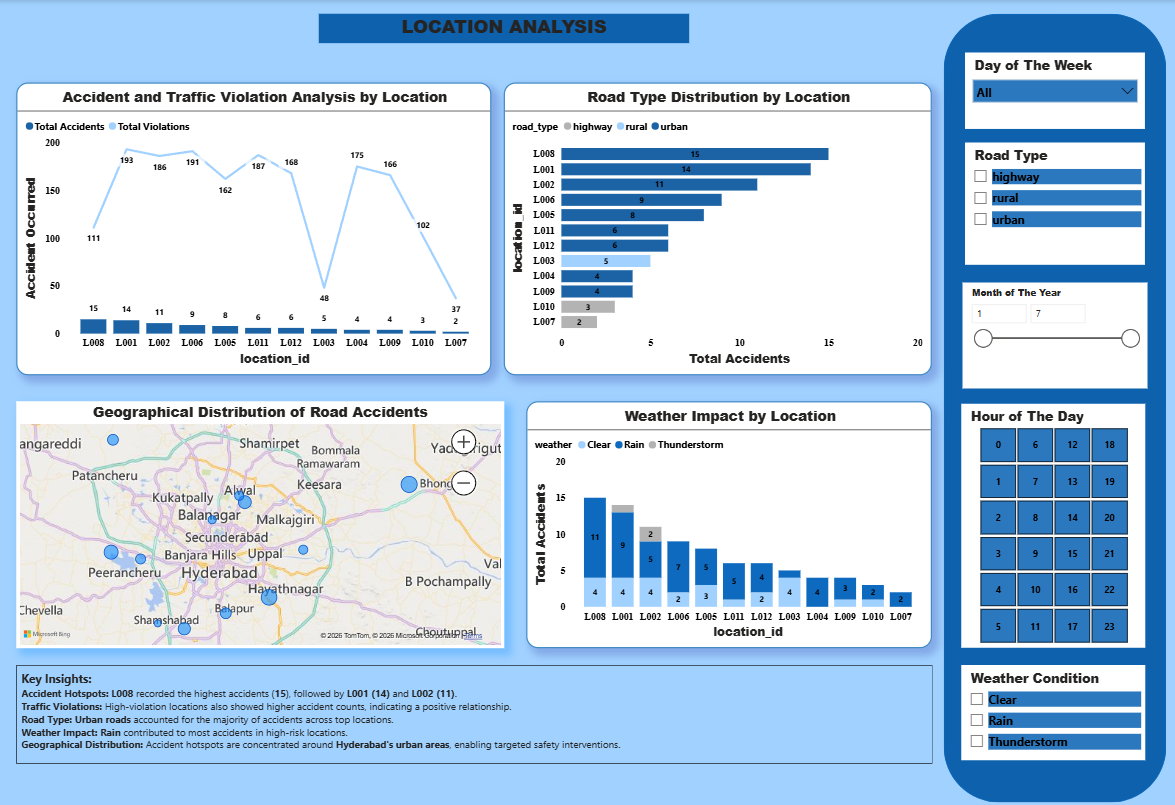

Layout of this report page (visuals, bound fields, positions):
{"tool":"powerbi","page":{"name":"Location Analysis","canvas":[1600,1100],"ordinal":1},"visuals":[{"type":"map","title":"Geographical Distribution of Road Accidents","fields":{"Y":["road_accidents.latitude"],"X":["road_accidents.longitude"],"Size":["road_accidents.Total Accidents"]},"box":[22,546,664,336],"z":0},{"type":"lineClusteredColumnComboChart","title":"Accident and Traffic Violation Analysis by Location","fields":{"Category":["road_accidents.location_id"],"Y":["road_accidents.Total Accidents"],"Y2":["road_accidents.Total Violations"]},"box":[22,112,646,398],"z":1000},{"type":"shape","box":[1284,18.7,302.7,1073.1],"z":2000},{"type":"slicer","fields":{"Values":["road_accidents.hour_of_day"]},"box":[1307.8,549.3,250,331.6],"z":3000},{"type":"slicer","fields":{"Values":["road_accidents.road_type"]},"box":[1312.9,193.9,244.9,166.7],"z":4000},{"type":"slicer","fields":{"Values":["road_accidents.month"]},"box":[1309.5,384.4,250,142.9],"z":5000},{"type":"slicer","fields":{"Values":["road_accidents.weather"]},"box":[1307.8,904.8,250,129.3],"z":6000},{"type":"slicer","fields":{"Values":["road_accidents.day_of_week"]},"box":[1312.9,71.4,244.9,103.7],"z":7000},{"type":"textbox","box":[434,18,504,40],"z":8000},{"type":"barChart","title":"Road Type Distribution by Location","fields":{"Category":["road_accidents.location_id"],"Y":["road_accidents.Total Accidents"],"Series":["road_accidents.road_type"]},"box":[686,112,582,398],"z":9000},{"type":"columnChart","title":"Weather Impact by Location","fields":{"Y":["road_accidents.Total Accidents"],"Category":["road_accidents.location_id"],"Series":["road_accidents.weather"]},"box":[716,546,552,336],"z":10000},{"type":"textbox","box":[22,904,1246,134],"z":11000}]}

Visuals, with their boxes in screenshot pixels (x1, y1, x2, y2), scaled from the page's 1600x1100 canvas onto the 1175x805 screenshot:
"Geographical Distribution of Road Accidents" map: detection(16, 400, 504, 645)
"Accident and Traffic Violation Analysis by Location" lineClusteredColumnComboChart: detection(16, 82, 491, 373)
shape: detection(943, 14, 1165, 799)
slicer - road_accidents.hour_of_day: detection(960, 402, 1144, 645)
slicer - road_accidents.road_type: detection(964, 142, 1144, 264)
slicer - road_accidents.month: detection(962, 281, 1145, 386)
slicer - road_accidents.weather: detection(960, 662, 1144, 757)
slicer - road_accidents.day_of_week: detection(964, 52, 1144, 128)
textbox: detection(319, 13, 689, 42)
"Road Type Distribution by Location" barChart: detection(504, 82, 931, 373)
"Weather Impact by Location" columnChart: detection(526, 400, 931, 645)
textbox: detection(16, 662, 931, 760)
